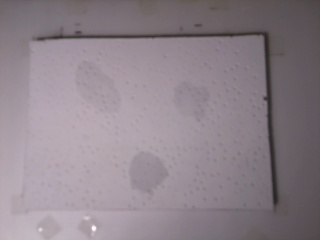Water_detected: (126, 155, 165, 193), (80, 74, 117, 113), (179, 77, 213, 112)
